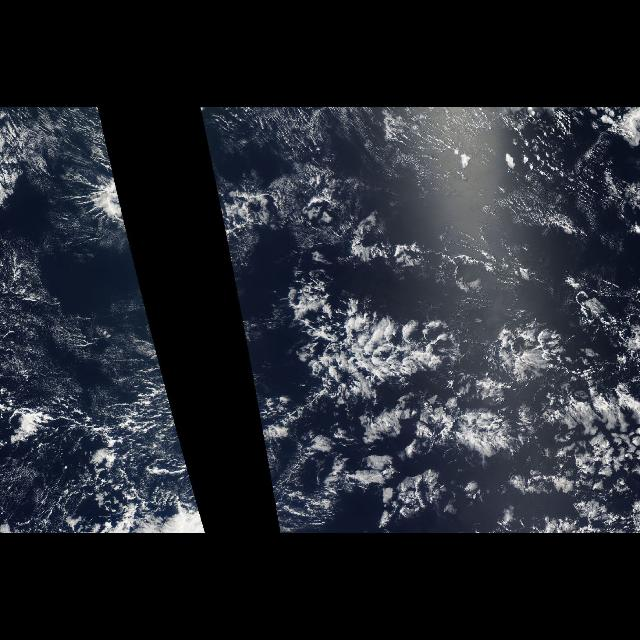Fish: (255, 262, 640, 494)
Flower: (276, 284, 632, 464)
Sugar: (1, 234, 163, 472), (239, 115, 403, 252)
